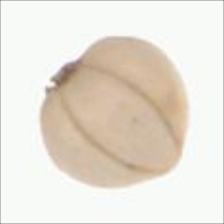L5: (61, 63, 184, 178), (43, 47, 90, 101)
L6: (37, 36, 191, 190)
